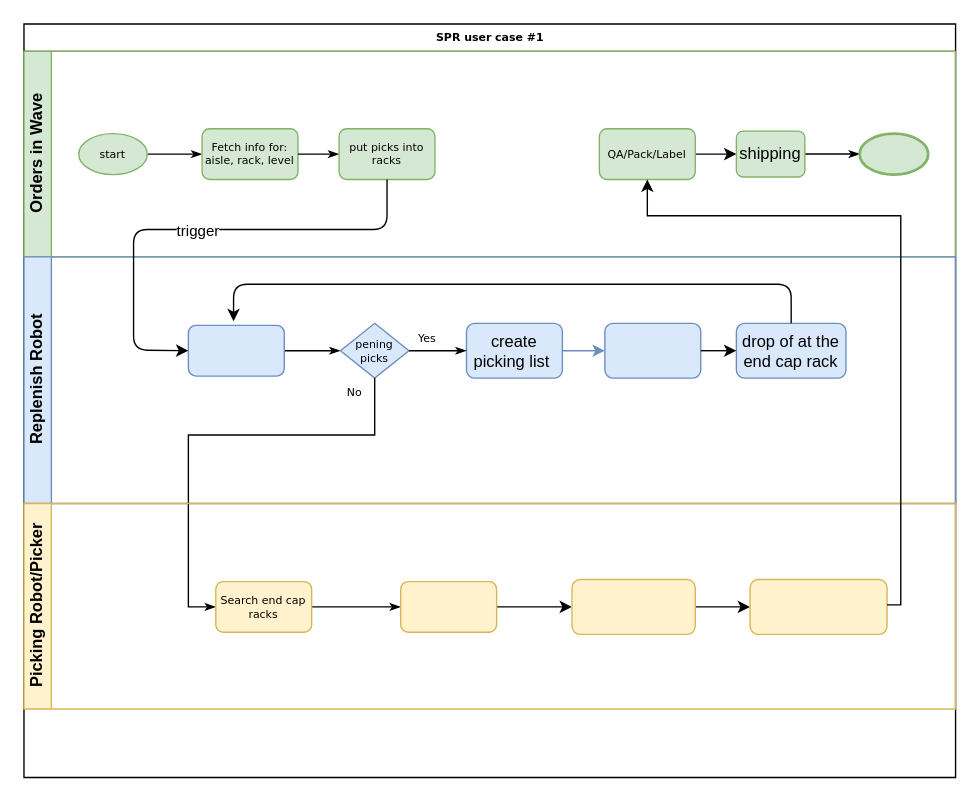
The diagram is 980 pixels wide and 801 high, and some of its shapes have lost their labels. Here are the shapes that lost their labels. From the top down, the centre of each, then its label:
point (893, 153): finished
point (235, 350): search zone/aisles
point (652, 350): pick all picks one by one
point (448, 606): Build picking list for each order
point (633, 606): pick all picks, order by order
point (818, 606): drop of order at the packing area
